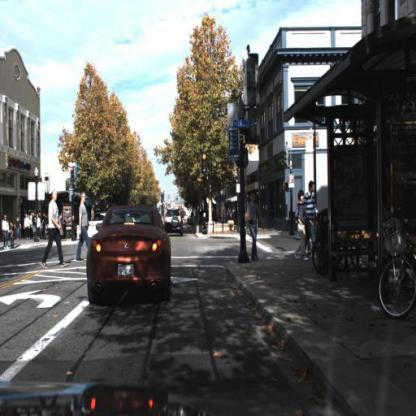car: (85, 204, 173, 307), (84, 207, 115, 249), (163, 204, 186, 238), (162, 208, 186, 238)
pedestrian: (38, 192, 68, 270), (68, 188, 95, 263), (302, 181, 322, 254), (246, 191, 264, 262), (295, 190, 309, 265), (2, 216, 11, 252), (31, 213, 39, 242), (3, 218, 10, 249), (21, 213, 29, 240), (32, 210, 38, 243), (42, 212, 49, 239), (16, 215, 23, 240), (11, 226, 18, 249)
trafficLight-Red: (201, 150, 209, 174), (70, 166, 77, 183)
